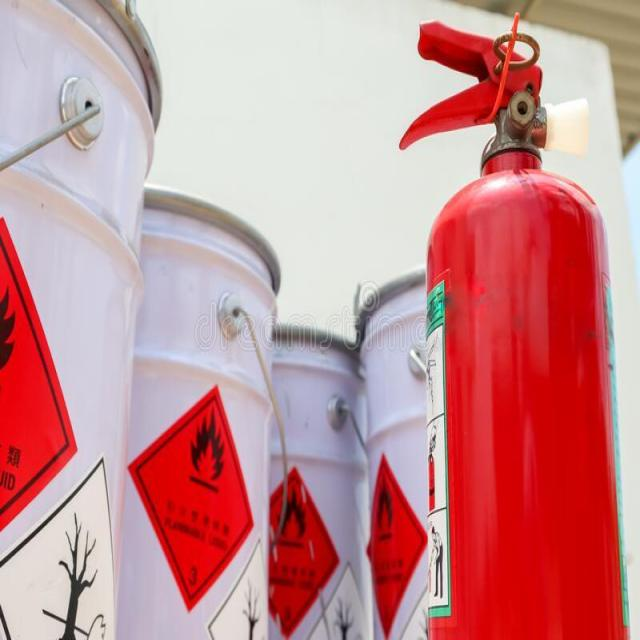fire_extinguisher: (394, 13, 639, 639)
